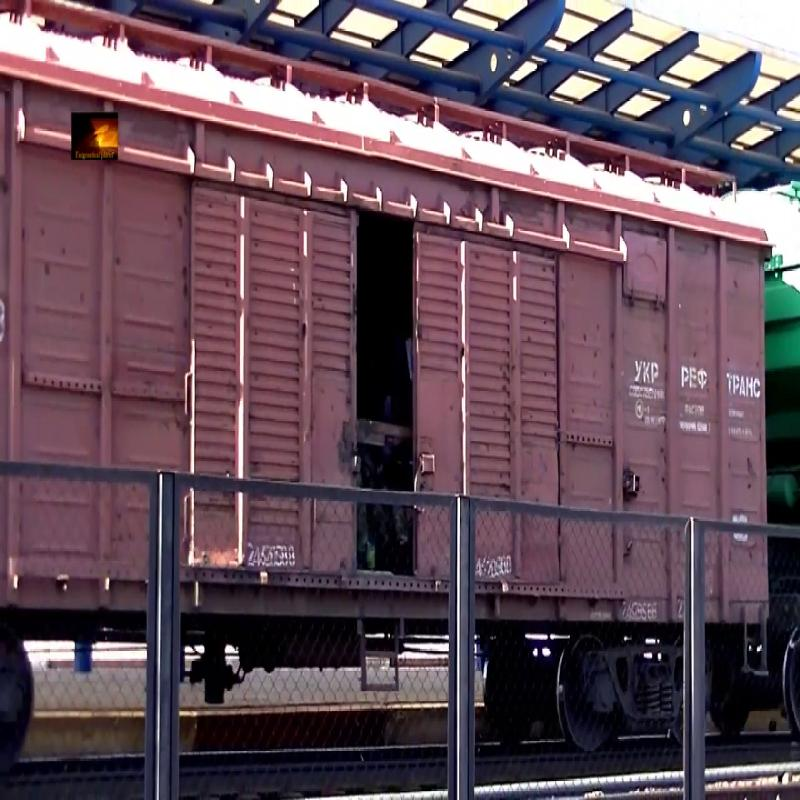train: (1, 5, 778, 769)
